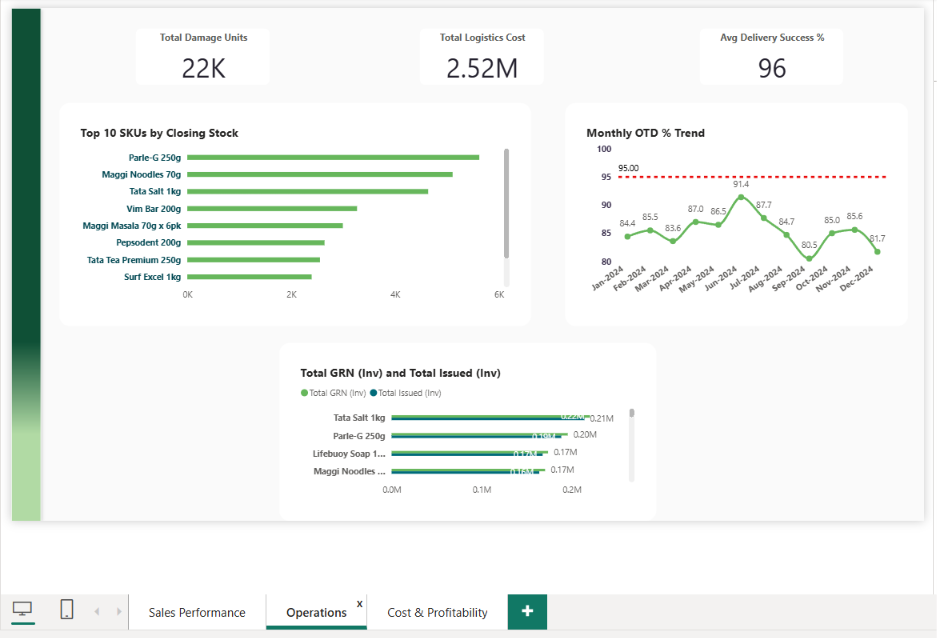

Layout of this report page (visuals, bound fields, positions):
{"tool":"powerbi","page":{"name":" Operations","canvas":[1280,720],"ordinal":1},"visuals":[{"type":"lineChart","title":" Monthly OTD % Trend","fields":{"Category":["public monthly_kpi.month_name"],"Y":["Sum(public monthly_kpi.otd_pct)"]},"box":[776.9,133.2,481,312.7],"z":0},{"type":"cardVisual","fields":{"Data":["public monthly_kpi.Total Damage Units"]},"box":[145.8,0,246.8,137.4],"z":1000},{"type":"cardVisual","fields":{"Data":["public vw_logistics_kpi.Total Logistics Cost"]},"box":[544.1,0,232.8,137.4],"z":2000},{"type":"cardVisual","fields":{"Data":["public vw_logistics_kpi.Avg Delivery Success %"]},"box":[936.7,0,259.4,137.4],"z":3000},{"type":"clusteredBarChart","title":"Top 10 SKUs by Closing Stock ","fields":{"Category":["public vw_inventory_status.sku_name"],"Y":["public vw_inventory_status.Total Closing Stock"]},"box":[67.3,133.2,661.9,312.7],"z":4000},{"type":"clusteredBarChart","title":"Total GRN (Inv) and Total Issued (Inv) ","fields":{"Y":["public vw_inventory_status.Total GRN (Inv)","public vw_inventory_status.Total Issued (Inv)"],"Category":["public vw_inventory_status.sku_name"]},"box":[375.8,469.8,528.7,249.6],"z":5000}]}

Visuals, with their boxes on the page's 1280x720 design canvas (x1, y1, x2, y2). These are canvas units, not pixel positions in the 937x638 screenshot, which may show the page scaled, cropped or inside an application window:
" Monthly OTD % Trend" lineChart: BBox(777, 133, 1258, 446)
cardVisual - public monthly_kpi.Total Damage Units: BBox(146, 0, 393, 137)
cardVisual - public vw_logistics_kpi.Total Logistics Cost: BBox(544, 0, 777, 137)
cardVisual - public vw_logistics_kpi.Avg Delivery Success %: BBox(937, 0, 1196, 137)
"Top 10 SKUs by Closing Stock " clusteredBarChart: BBox(67, 133, 729, 446)
"Total GRN (Inv) and Total Issued (Inv) " clusteredBarChart: BBox(376, 470, 904, 719)
